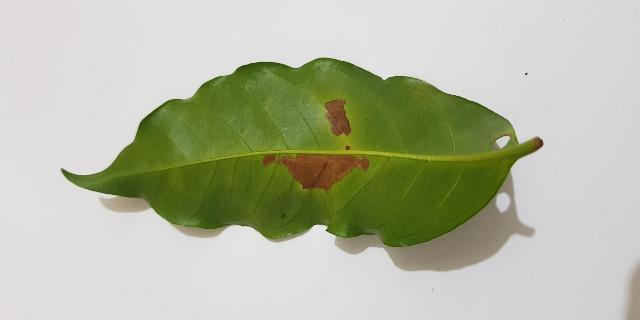cercospora: (263, 154, 369, 191), (325, 99, 351, 136), (345, 146, 350, 150)
